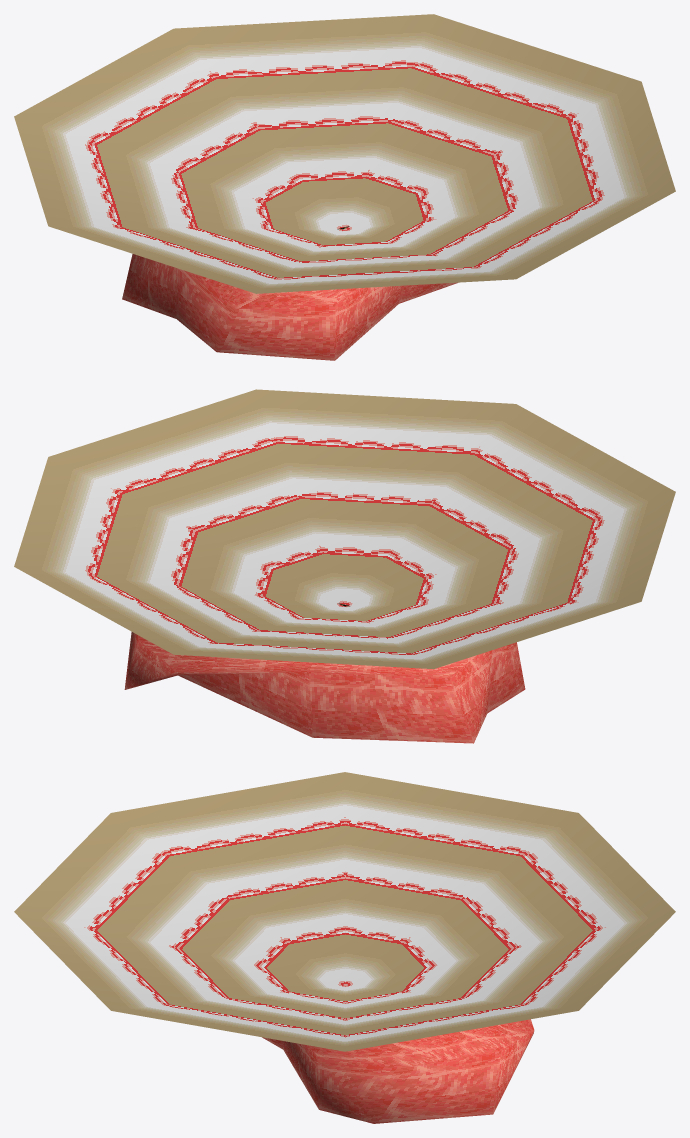
File: 1167ucc_mis_yk1.gltf
3 views of the same model, one above another, from view 1: azimuth 30°, elevation 25°; view 2: azimuth 150°, elevation 25°; view 3: azimuth 270°, elevation 25° (orthographic). The views are drawn at different scales.
Visible parts, largest first — view 1: 1167ucc_mis_yk1; view 2: 1167ucc_mis_yk1; view 3: 1167ucc_mis_yk1.
Part boxes in pixels (x1,y1,x2,y2): 1167ucc_mis_yk1: [14, 14, 675, 360]; 1167ucc_mis_yk1: [14, 389, 675, 743]; 1167ucc_mis_yk1: [14, 772, 675, 1123].
Size of the model in its own units: 0.9009 by 0.2053 by 0.9009.
4 materials, 4 textured.
